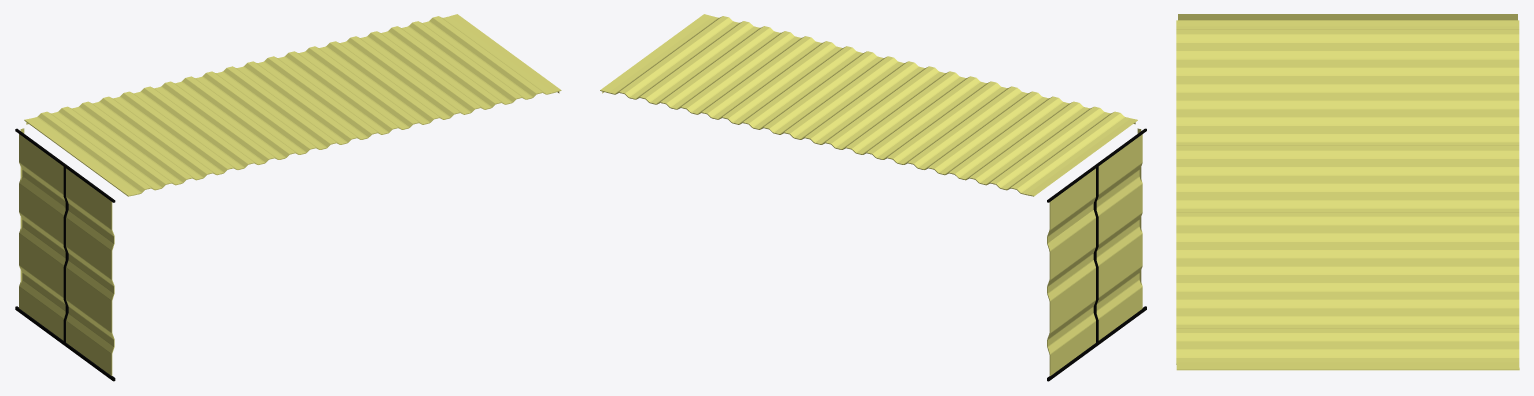
File: rear-top-sprayfoam.glb
The picture shows the model from 3 angles, left to right: view 1: azimuth 30°, elevation 25°; view 2: azimuth 150°, elevation 25°; view 3: azimuth 270°, elevation 25°; orthographic projection. The views are drawn at different scales.
Parts seen in each view (by area): view 1: 20FT Sprayfoam_Ceiling, 20FT Sprayfoam_RearTop; view 2: 20FT Sprayfoam_Ceiling, 20FT Sprayfoam_RearTop; view 3: 20FT Sprayfoam_Ceiling, 20FT Sprayfoam_RearTop.
Part boxes in pixels (x1,y1,x2,y2): 20FT Sprayfoam_Ceiling: (24, 14, 561, 196); 20FT Sprayfoam_RearTop: (15, 91, 559, 381); 20FT Sprayfoam_Ceiling: (600, 14, 1137, 196); 20FT Sprayfoam_RearTop: (602, 91, 1146, 381); 20FT Sprayfoam_Ceiling: (1176, 20, 1519, 370); 20FT Sprayfoam_RearTop: (1178, 14, 1517, 20).
Bounding box in the file's own units: 5.97 × 2.37 × 2.37.
